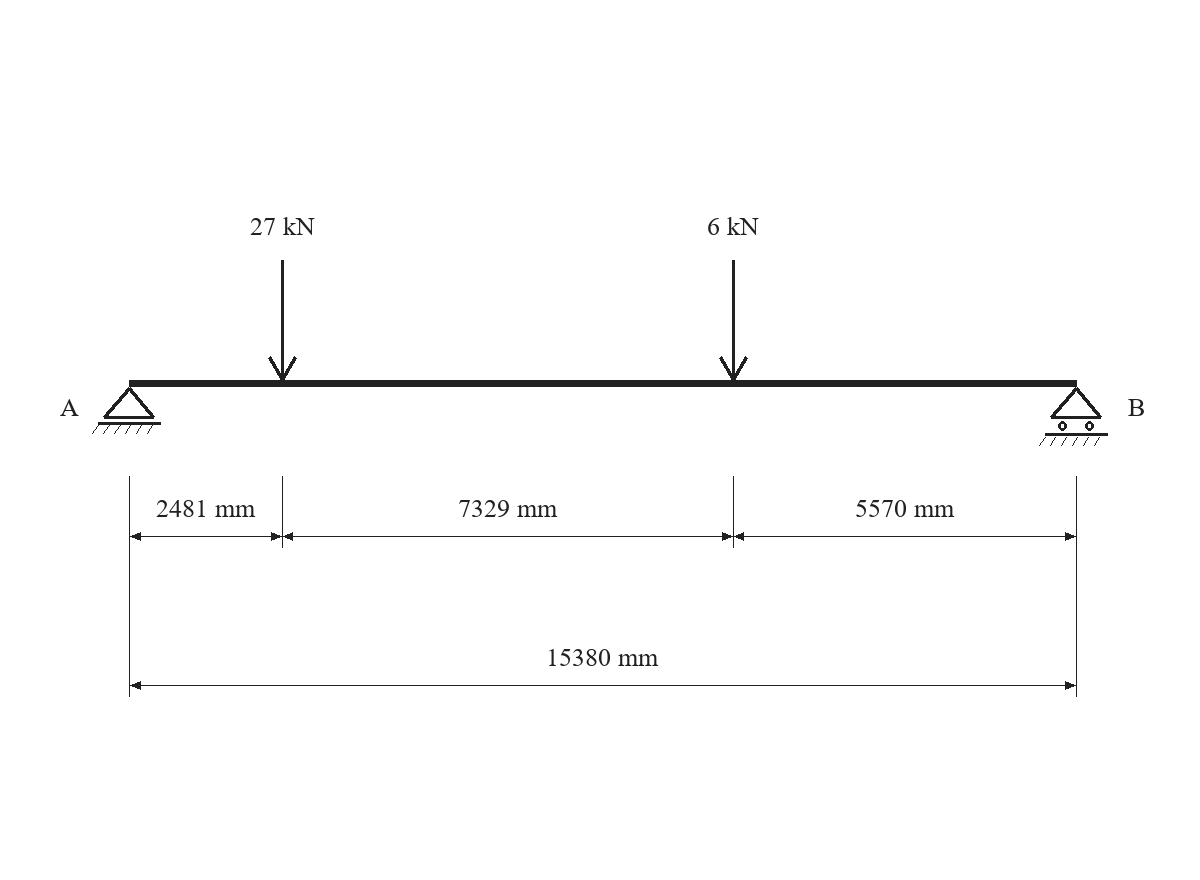pin_support: (92, 387, 161, 434)
point_load: (268, 260, 297, 381), (719, 260, 748, 381)
roller_support: (1039, 387, 1108, 446)
